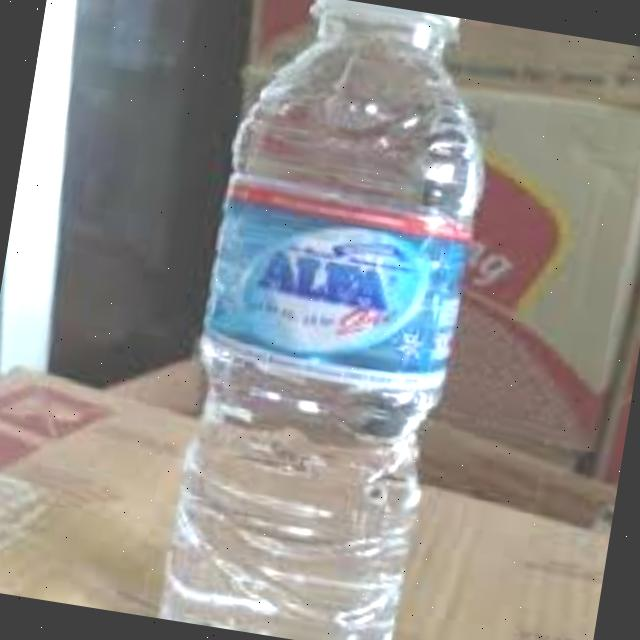trash: (145, 0, 515, 640)
